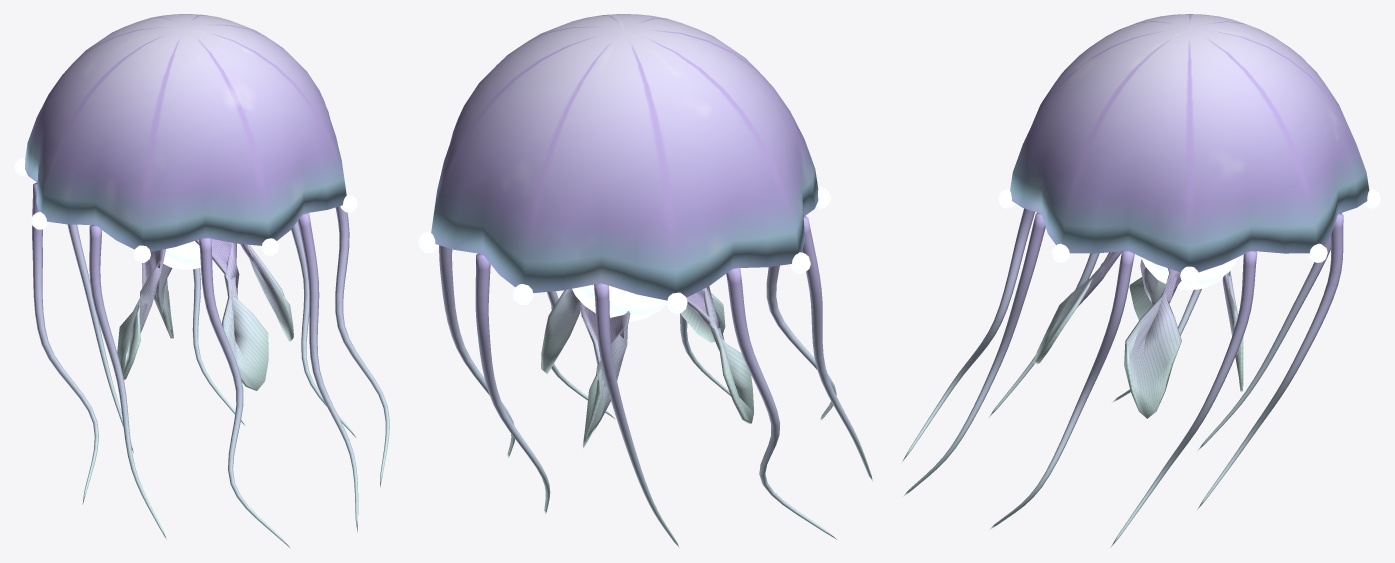
File: PhantomJelly.fbx
The picture shows the model from 3 angles, left to right: view 1: azimuth 30°, elevation 25°; view 2: azimuth 150°, elevation 25°; view 3: azimuth 270°, elevation 25°; orthographic projection. The views are drawn at different scales.
Visible parts, largest first — view 1: PhantomJelly, PhantomJelly_Glow; view 2: PhantomJelly, PhantomJelly_Glow; view 3: PhantomJelly, PhantomJelly_Glow.
Boxes of the visible parts, x1,y1,x2,y2 form: PhantomJelly: (25,14,389,547); PhantomJelly_Glow: (14,144,357,269); PhantomJelly: (431,14,872,548); PhantomJelly_Glow: (418,170,831,321); PhantomJelly: (902,14,1369,547); PhantomJelly_Glow: (998,189,1380,290).
Size of the model in its own units: 103 by 134 by 129.
Materials: 2 (1 with a texture image).
